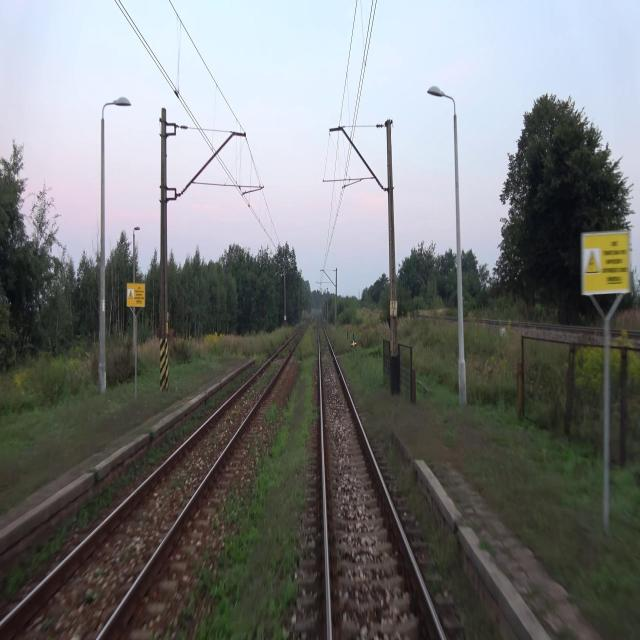rail-track: (0, 328, 305, 639), (319, 321, 443, 639)
